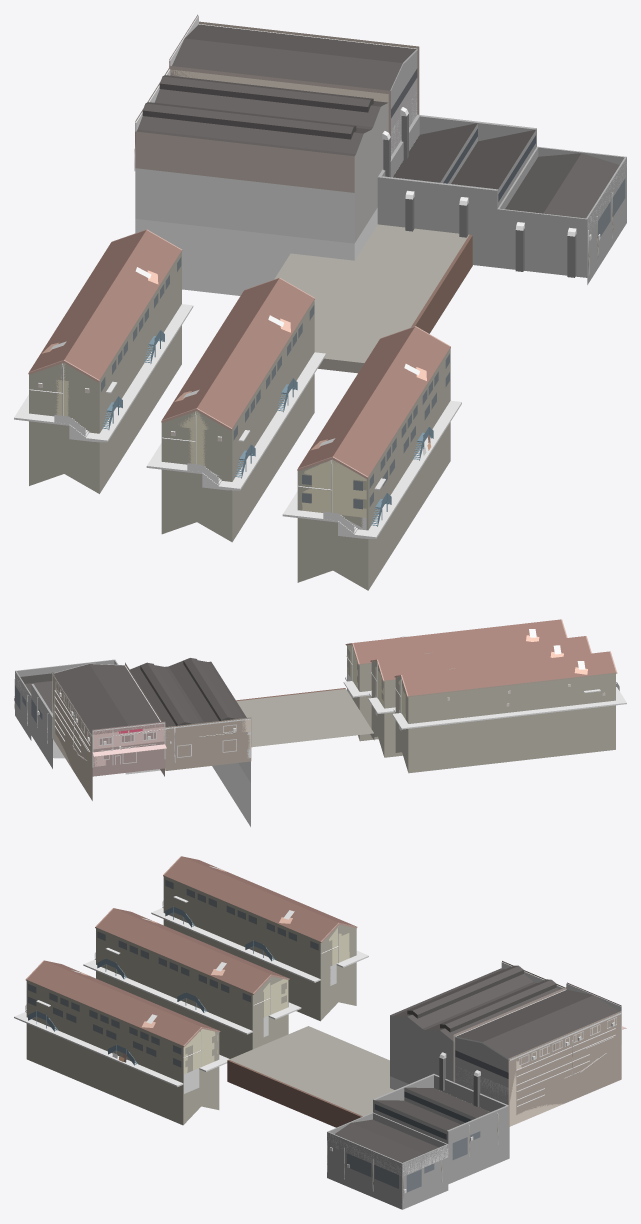
The model's file is projects.dae.
3 renders of one model, top to bottom at view 1: azimuth 30°, elevation 25°; view 2: azimuth 150°, elevation 25°; view 3: azimuth 270°, elevation 25°, orthographic. The views are drawn at different scales.
Parts seen in each view (by area): view 1: projects_a2000, projects_a3000; view 2: projects_a2000, projects_a3000; view 3: projects_a2000, projects_a3000.
Boxes of the visible parts, bbox=[...] form: projects_a2000: bbox=[29, 14, 626, 590]; projects_a3000: bbox=[14, 15, 626, 538]; projects_a2000: bbox=[15, 619, 615, 800]; projects_a3000: bbox=[14, 619, 626, 826]; projects_a2000: bbox=[26, 856, 621, 1209]; projects_a3000: bbox=[14, 856, 626, 1204].
Size of the model in its own units: 130 by 130 by 32.96.
